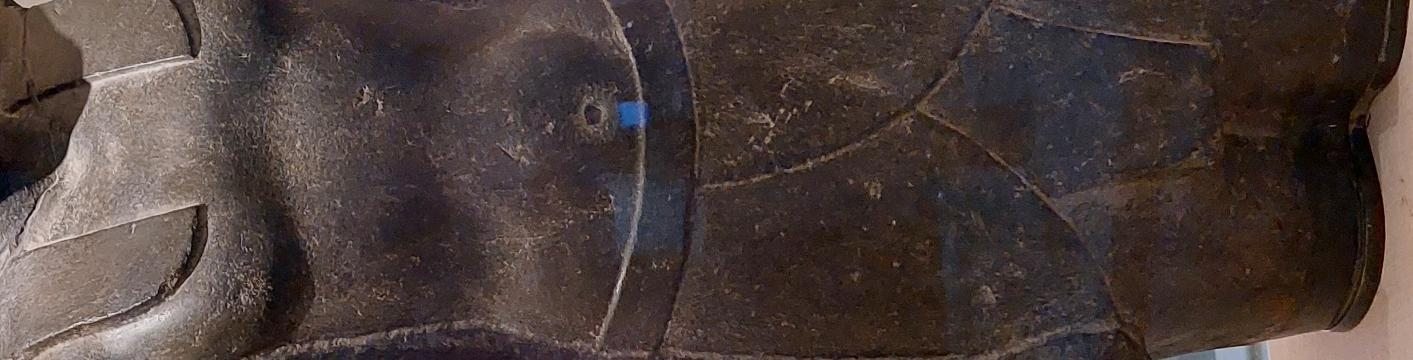RoyalStatues: (0, 8, 410, 360)
